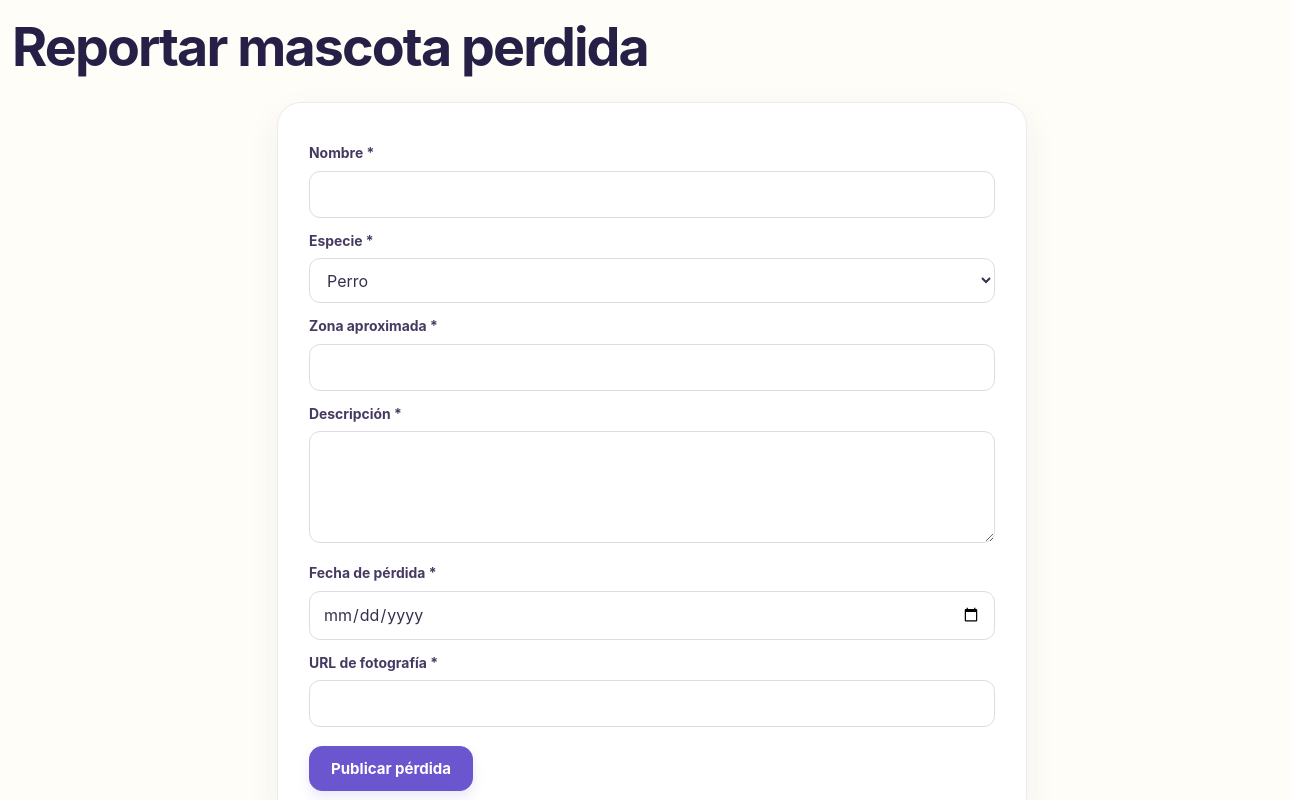
Test case: Formulario de pérdida › envía los datos correctos al Presenter
Select "Gato" in the dropdown labelled "Especie *" at (652, 281), box top-left (309, 258), bottom-right (995, 303)
Type "Sarco" into the field labelled "Zona aproximada *" at (652, 367), box top-left (309, 344), bottom-right (995, 391)
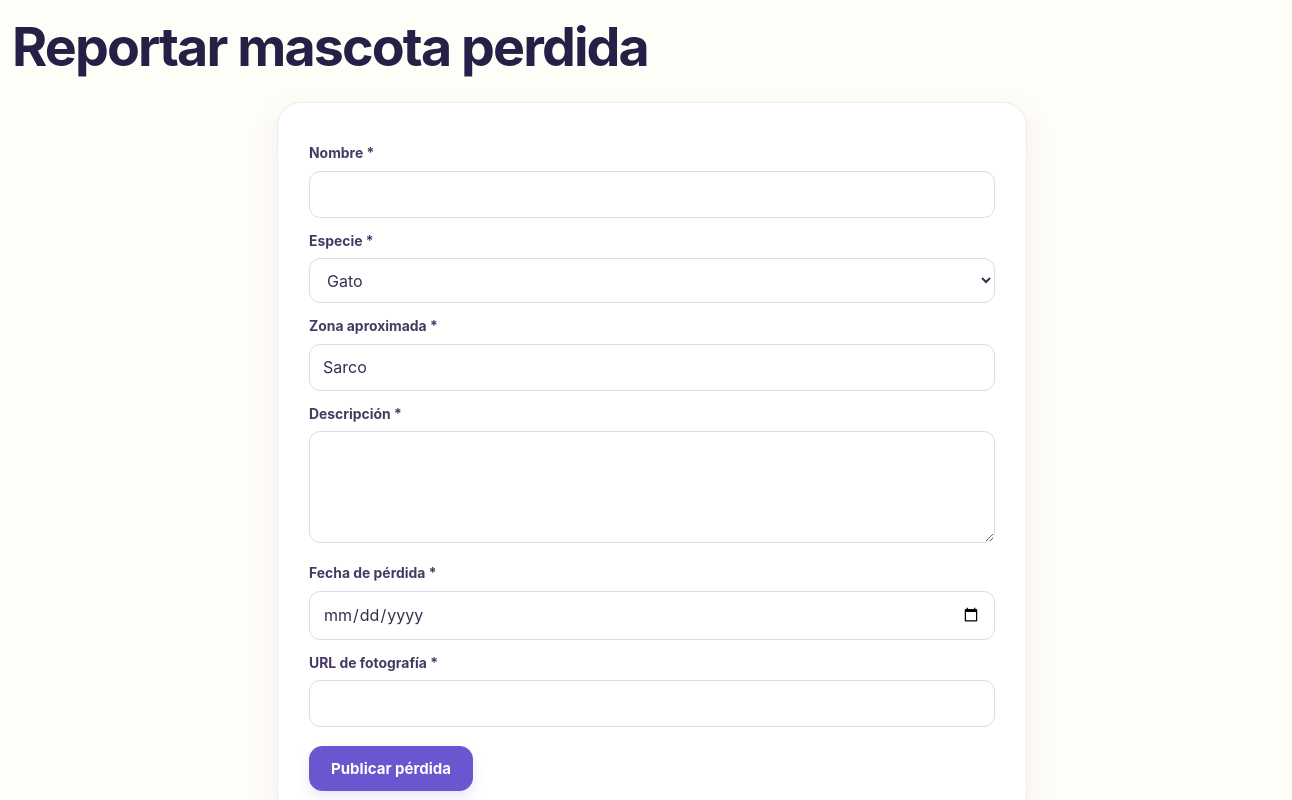
Type "Mascota de color blanco" into the text box labelled "Descripción *" at (652, 487), box top-left (309, 431), bottom-right (995, 543)
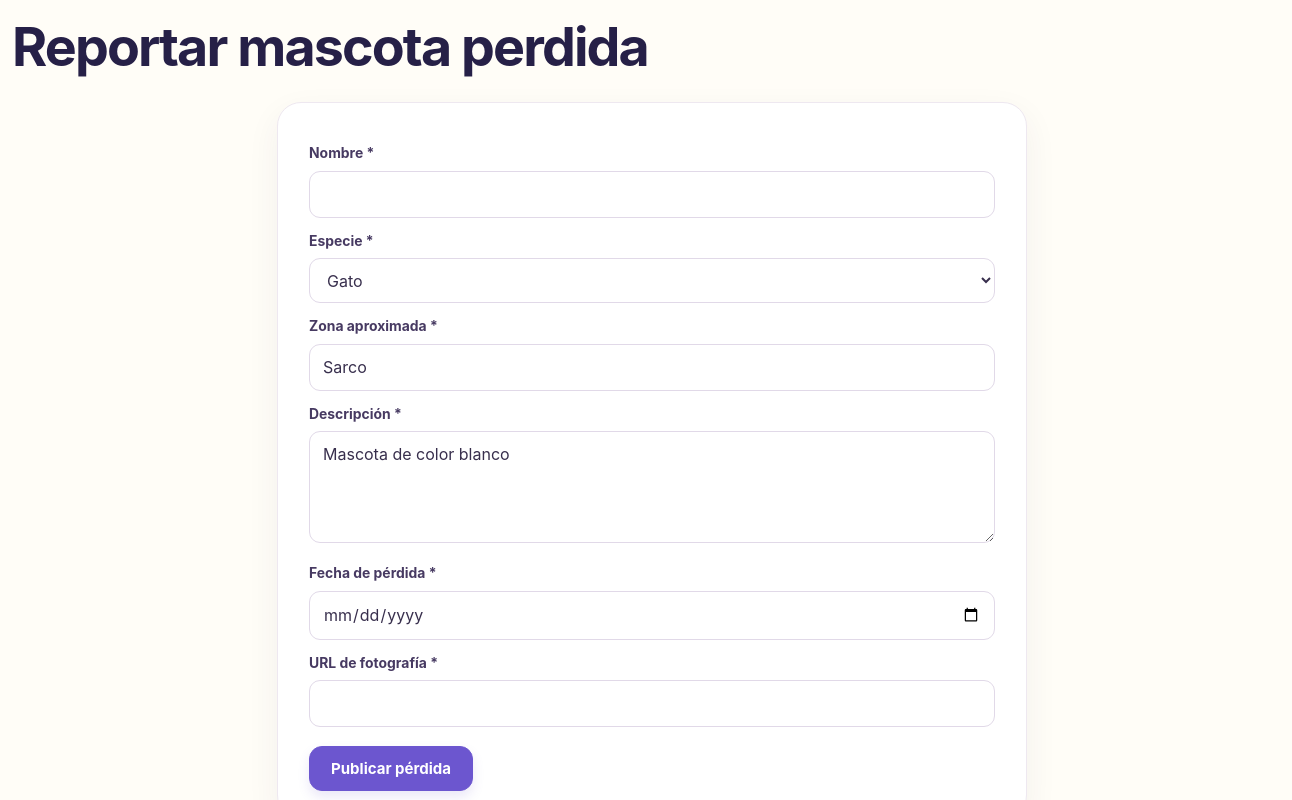
Type "2020-10-20" into the date field labelled "Fecha de pérdida *" at (652, 615), box top-left (309, 591), bottom-right (995, 640)
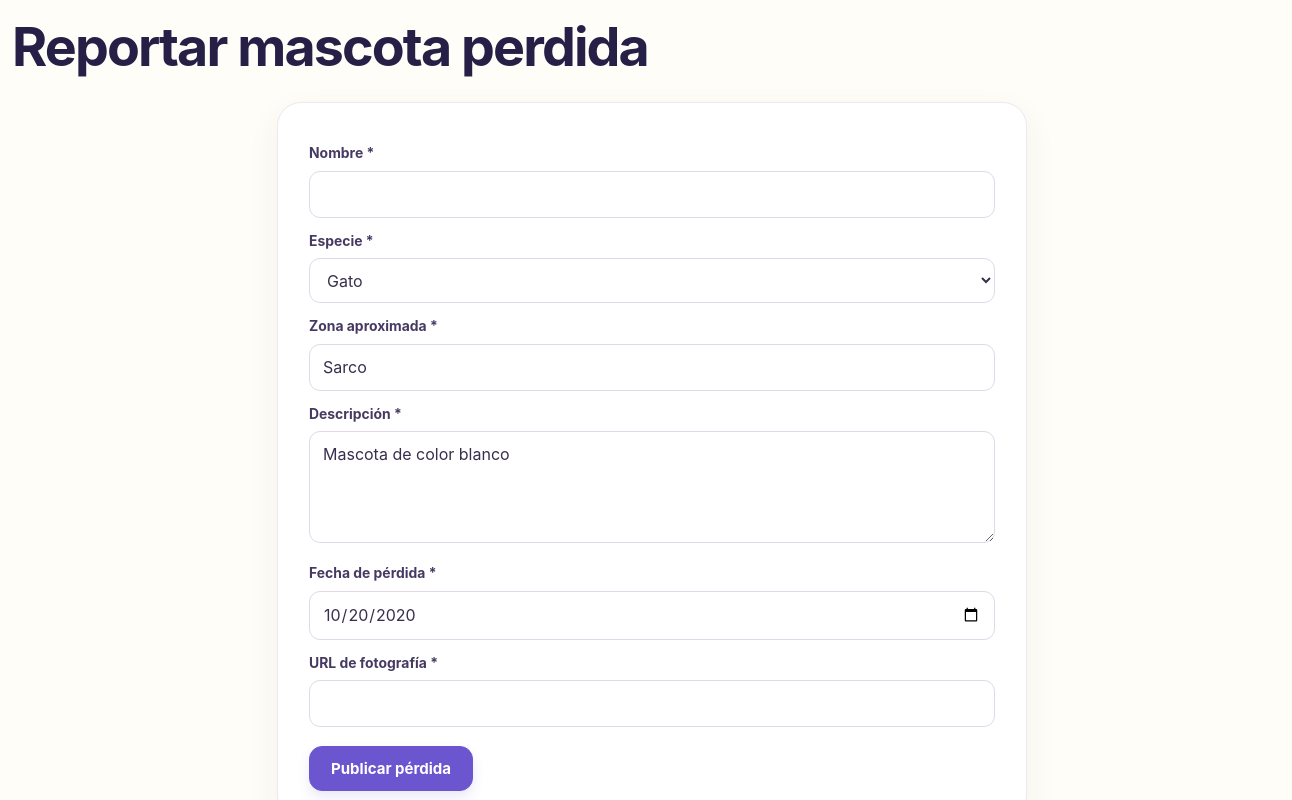
Type "Luna" into the field labelled "Nombre *" at (652, 194), box top-left (309, 171), bottom-right (995, 218)
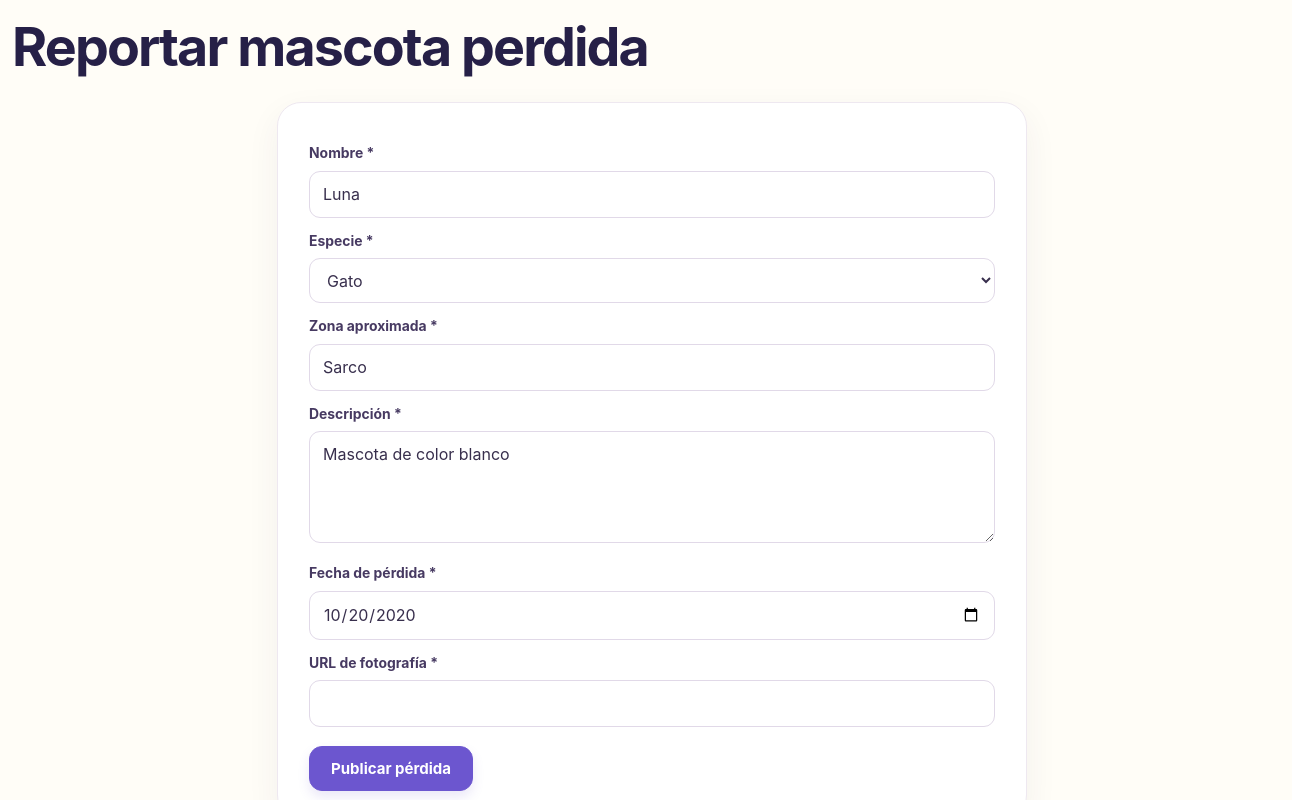
Type "https://example.com/luna.jpg" into the field labelled "URL de fotografía *" at (652, 704), box top-left (309, 680), bottom-right (995, 727)
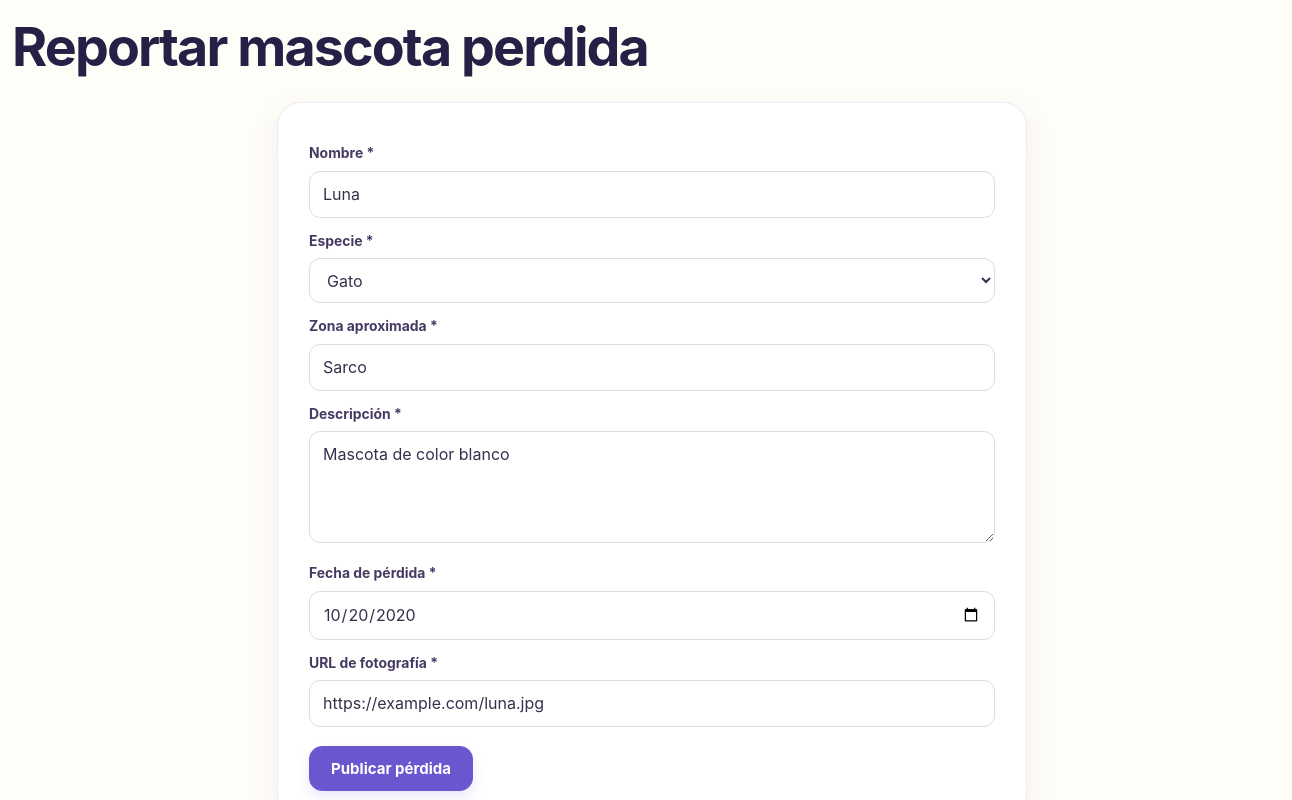
Click the button "Publicar pérdida" at (391, 768), box top-left (309, 746), bottom-right (473, 791)
(page scrolled)
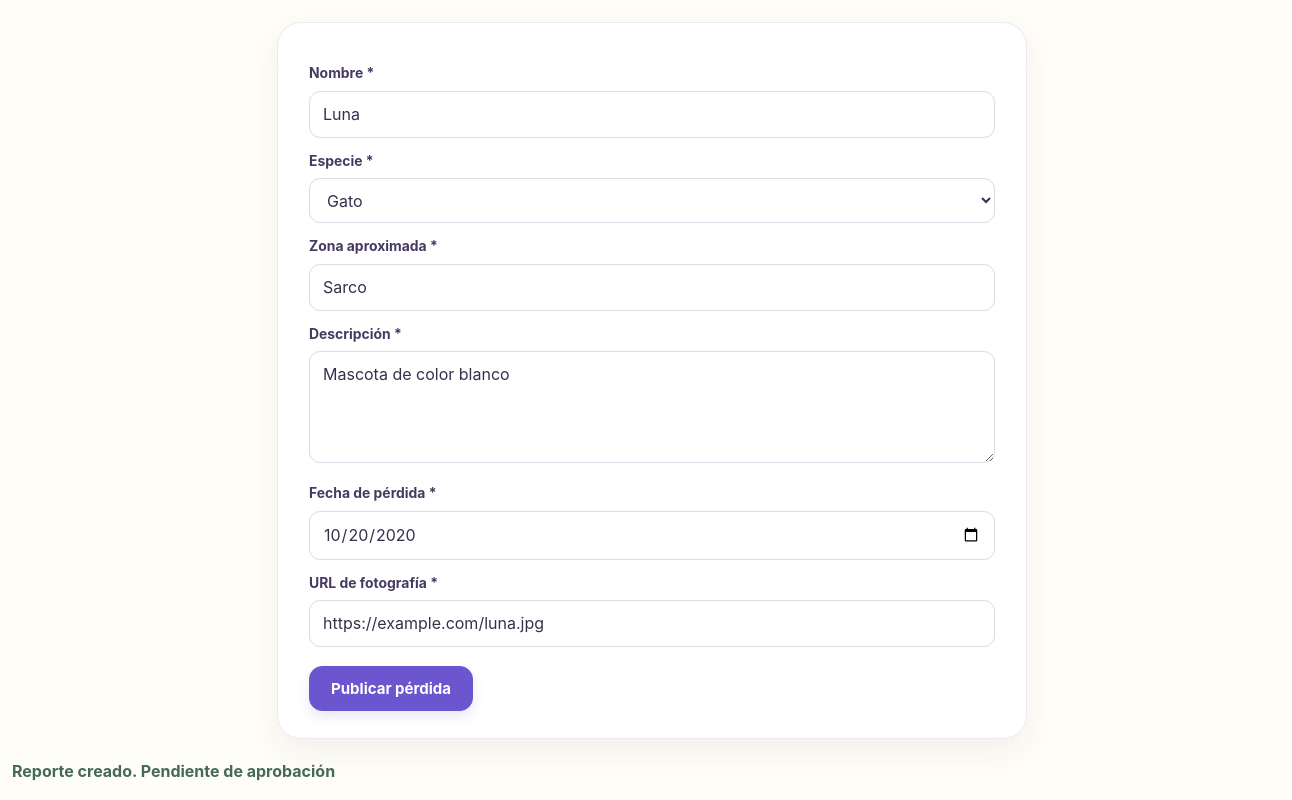
Expected: the message reads "Reporte creado. Pendiente de aprobación", top-left (12, 761), bottom-right (335, 781)
